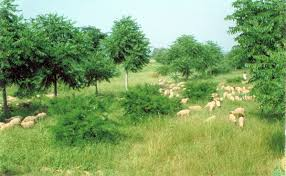sheep: (3, 116, 24, 130), (36, 111, 51, 122), (225, 112, 236, 126), (214, 95, 225, 109), (178, 107, 193, 117), (204, 114, 218, 123), (235, 114, 242, 131), (21, 115, 34, 124), (207, 99, 216, 112), (234, 84, 247, 92), (234, 105, 244, 115), (240, 70, 248, 82), (226, 92, 235, 102), (178, 97, 189, 105), (167, 88, 175, 98), (159, 85, 167, 94), (242, 92, 250, 101), (225, 84, 233, 92), (176, 82, 184, 90)
